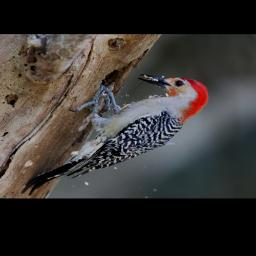Woodpecker: (23, 75, 208, 193)
